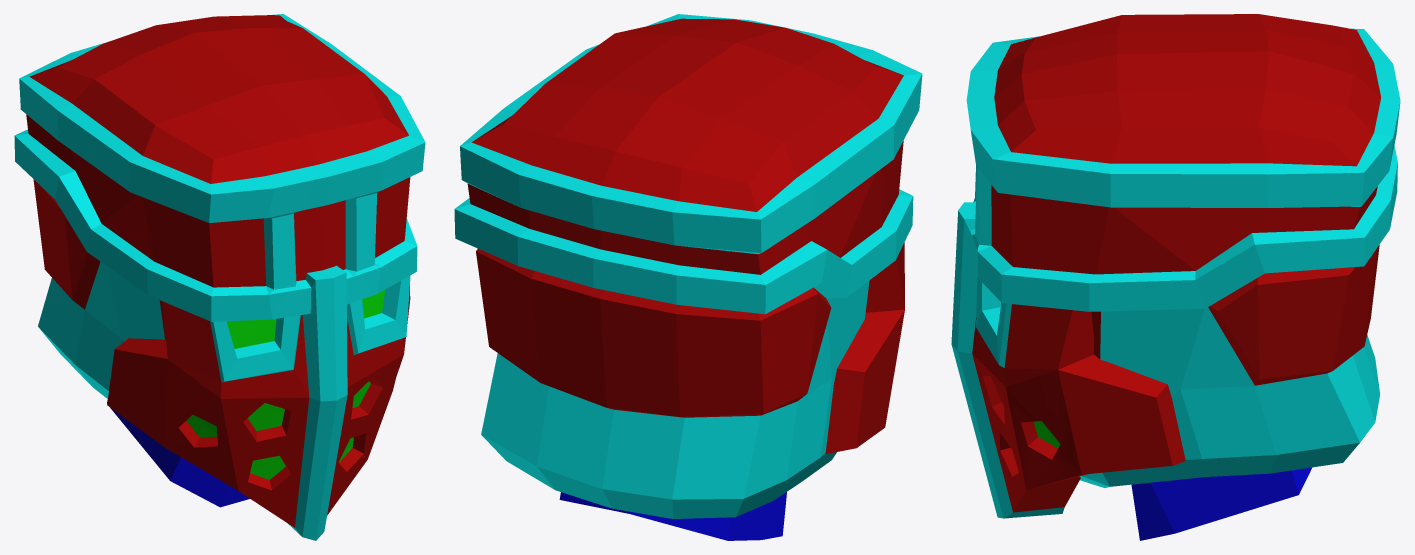
Rendered from Chr_Head_No_Elements_Male_Static_07.fbx.
3 renders of one model, left to right at view 1: azimuth 30°, elevation 25°; view 2: azimuth 150°, elevation 25°; view 3: azimuth 270°, elevation 25°, orthographic. The views are drawn at different scales.
Parts seen in each view (by area): view 1: Chr_Head_No_Elements_Male_07; view 2: Chr_Head_No_Elements_Male_07; view 3: Chr_Head_No_Elements_Male_07.
Part boxes in pixels (x1,y1,x2,y2): Chr_Head_No_Elements_Male_07: [14, 14, 425, 540]; Chr_Head_No_Elements_Male_07: [454, 14, 922, 540]; Chr_Head_No_Elements_Male_07: [951, 14, 1400, 540].
Size of the model in its own units: 26.59 by 38.24 by 32.84.
